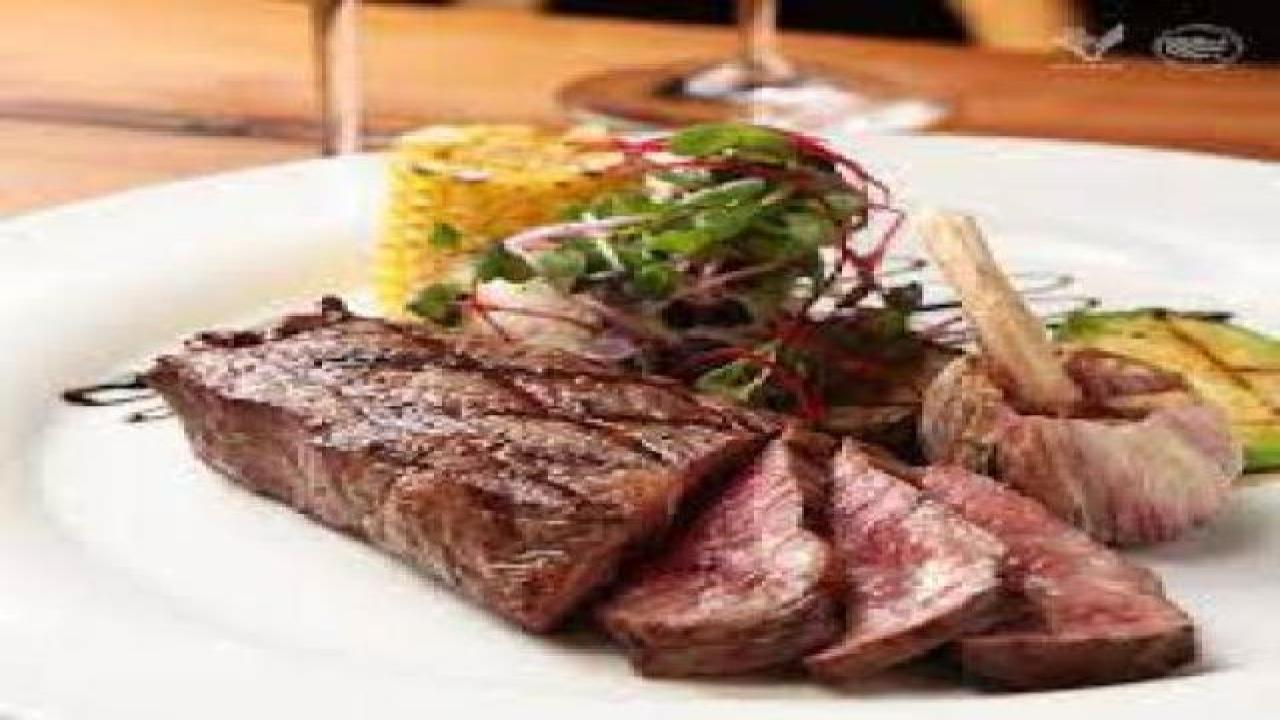Carne: (169, 278, 740, 618), (932, 441, 1183, 675), (653, 424, 820, 685), (827, 444, 983, 672)
